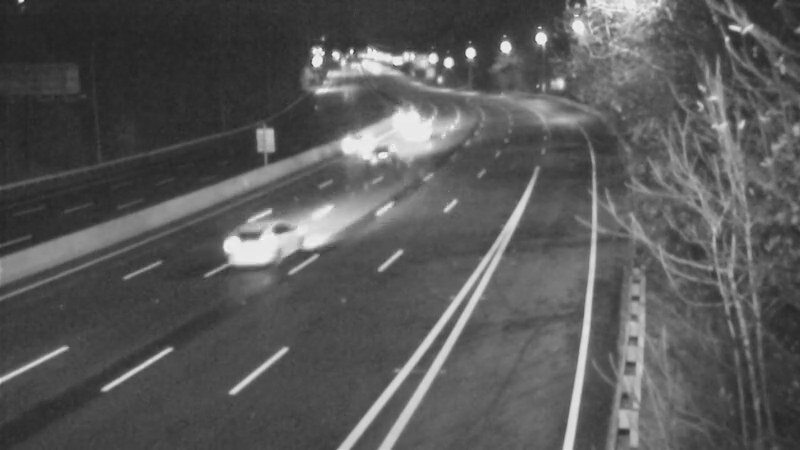vehicle: (340, 118, 420, 198), (220, 204, 300, 284), (386, 87, 436, 137), (397, 106, 447, 156), (327, 109, 377, 159)
